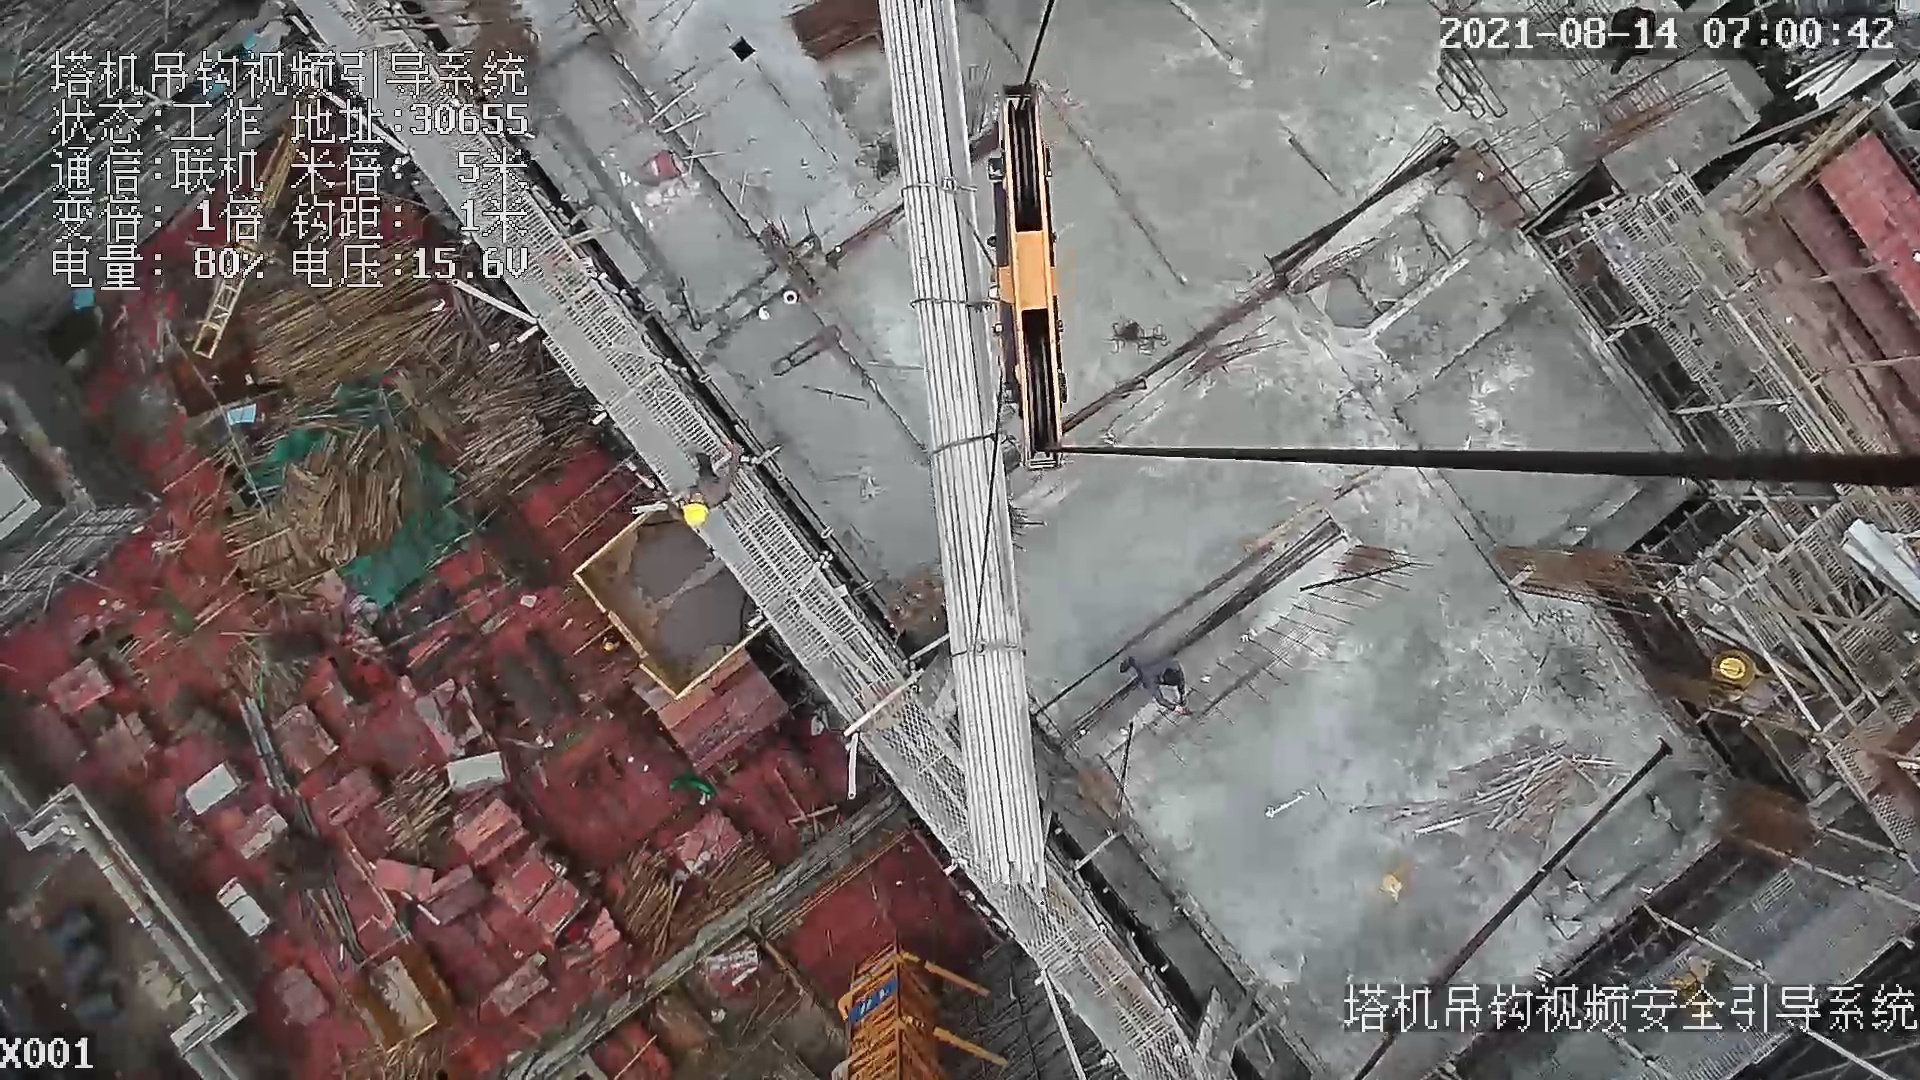helmet: (681, 501, 709, 533)
hook: (958, 74, 1078, 474)
person: (676, 447, 741, 536), (1136, 662, 1201, 718)
